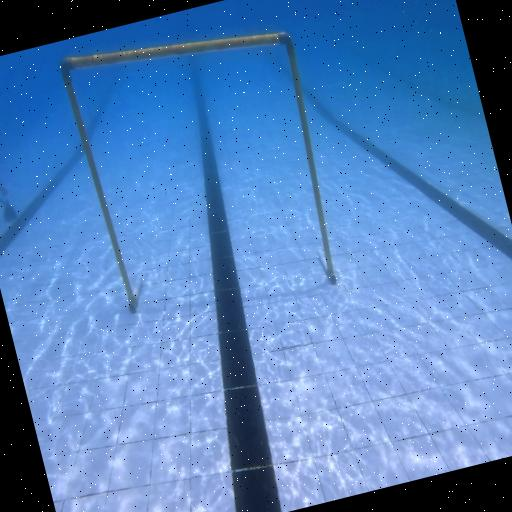gate: (58, 4, 354, 344)
